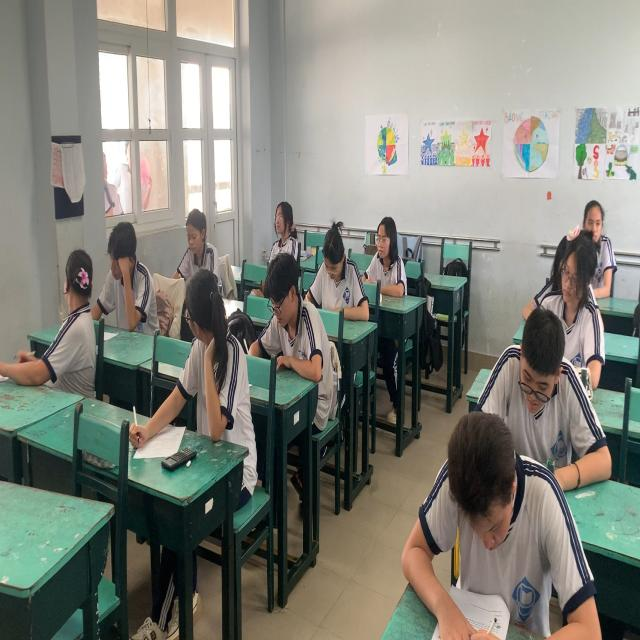cheating: (171, 268, 251, 442), (40, 251, 106, 404)
not_cheating: (394, 414, 585, 631), (486, 324, 596, 472), (542, 220, 604, 372), (256, 252, 326, 386), (91, 217, 161, 338), (311, 210, 367, 328), (361, 213, 410, 300), (168, 200, 220, 278), (581, 200, 611, 306), (256, 196, 302, 262)
